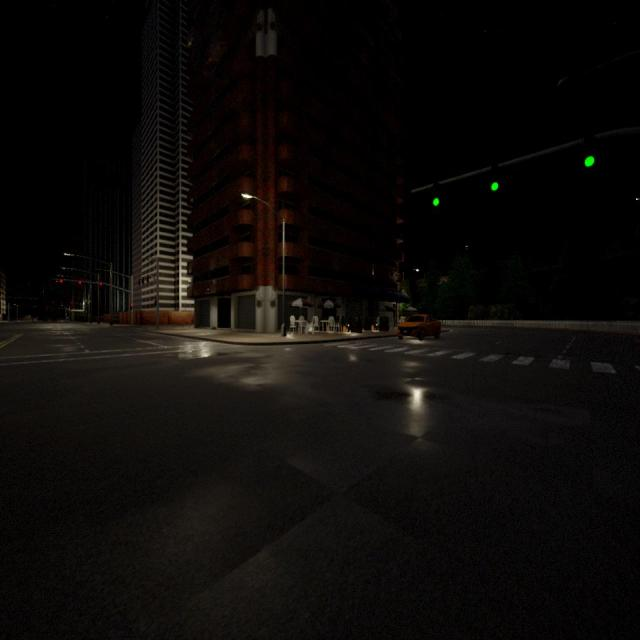Vehicle: (397, 313, 441, 340)
traffic_light: (584, 138, 595, 168), (491, 165, 498, 191), (433, 183, 440, 206), (154, 298, 157, 308), (146, 275, 149, 283), (78, 280, 82, 284), (138, 278, 140, 286), (142, 277, 144, 284), (59, 279, 62, 283), (130, 304, 132, 310), (100, 282, 102, 286)
